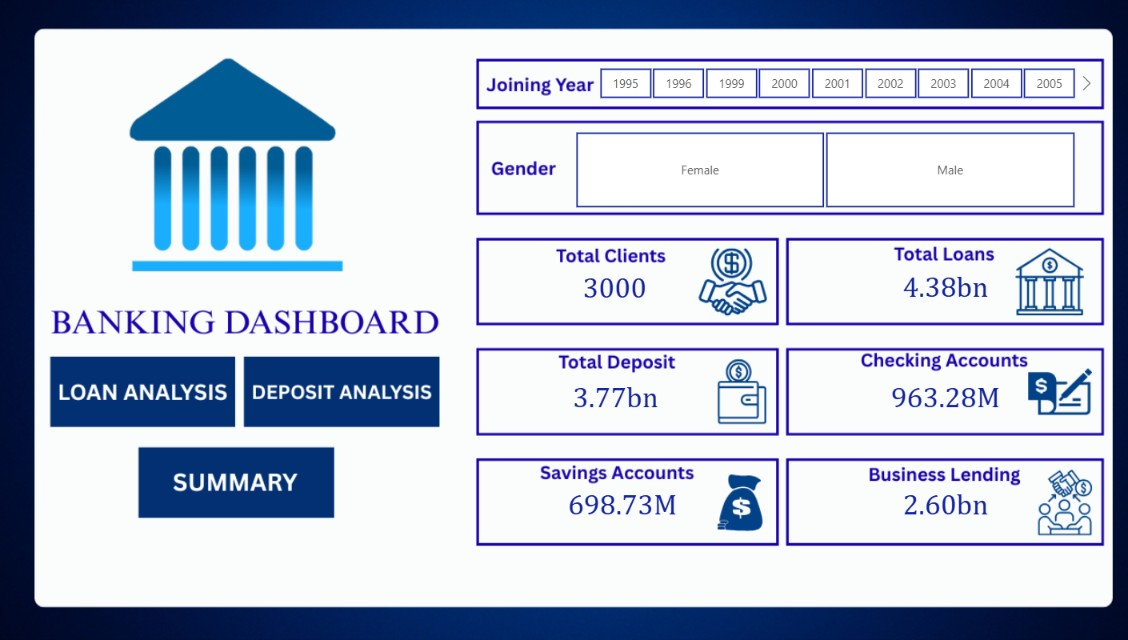

This screenshot's page, from the dashboard's own definition file:
{"tool":"powerbi","page":{"name":"Home","canvas":[1280,720],"ordinal":0},"visuals":[{"type":"card","fields":{"Values":["CountNonNull(banking_case customer.Name)"]},"box":[589.2,286.7,193.8,72.8],"z":0},{"type":"slicer","fields":{"Values":["banking_case customer.Gender"]},"box":[617.2,144.5,603.7,97.4],"z":1000},{"type":"card","fields":{"Values":["banking_case customer.Total loan"]},"box":[903.9,285.6,300.2,73.9],"z":2000},{"type":"card","fields":{"Values":["banking_case customer.Total deposit"]},"box":[536.5,390.9,300.2,107.5],"z":3000},{"type":"card","fields":{"Values":["Sum(banking_case customer.Checking Accounts)"]},"box":[903.9,390.9,300.2,107.5],"z":4000},{"type":"card","fields":{"Values":["Sum(banking_case customer.Business Lending)"]},"box":[903.9,510.7,300.2,106.4],"z":5000},{"type":"card","fields":{"Values":["Sum(banking_case customer.Saving Accounts)"]},"box":[544.3,510.7,300.2,106.4],"z":6000},{"type":"slicer","fields":{"Values":["banking_case customer.Year of joining"]},"box":[642.9,72.8,578,47],"z":7000},{"type":"actionButton","box":[60.5,405.5,200.5,71.7],"z":8000},{"type":"actionButton","box":[161.3,510.7,206.1,62.7],"z":9000},{"type":"actionButton","box":[278.9,405.5,207.2,63.8],"z":10000}]}

Visuals, with their boxes in screenshot pixels (x1, y1, x2, y2), scaled from the page's 1280x720 canvas onto the 1128x640 screenshot:
card - CountNonNull(banking_case customer.Name): crop(519, 255, 690, 320)
slicer - banking_case customer.Gender: crop(544, 128, 1076, 215)
card - banking_case customer.Total loan: crop(797, 254, 1061, 320)
card - banking_case customer.Total deposit: crop(473, 347, 737, 443)
card - Sum(banking_case customer.Checking Accounts): crop(797, 347, 1061, 443)
card - Sum(banking_case customer.Business Lending): crop(797, 454, 1061, 549)
card - Sum(banking_case customer.Saving Accounts): crop(480, 454, 744, 549)
slicer - banking_case customer.Year of joining: crop(567, 65, 1076, 106)
actionButton: crop(53, 360, 230, 424)
actionButton: crop(142, 454, 324, 510)
actionButton: crop(246, 360, 428, 417)
